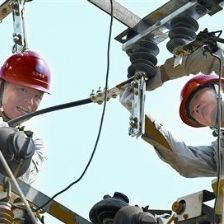helmet: (1, 43, 55, 125), (178, 73, 224, 136)
